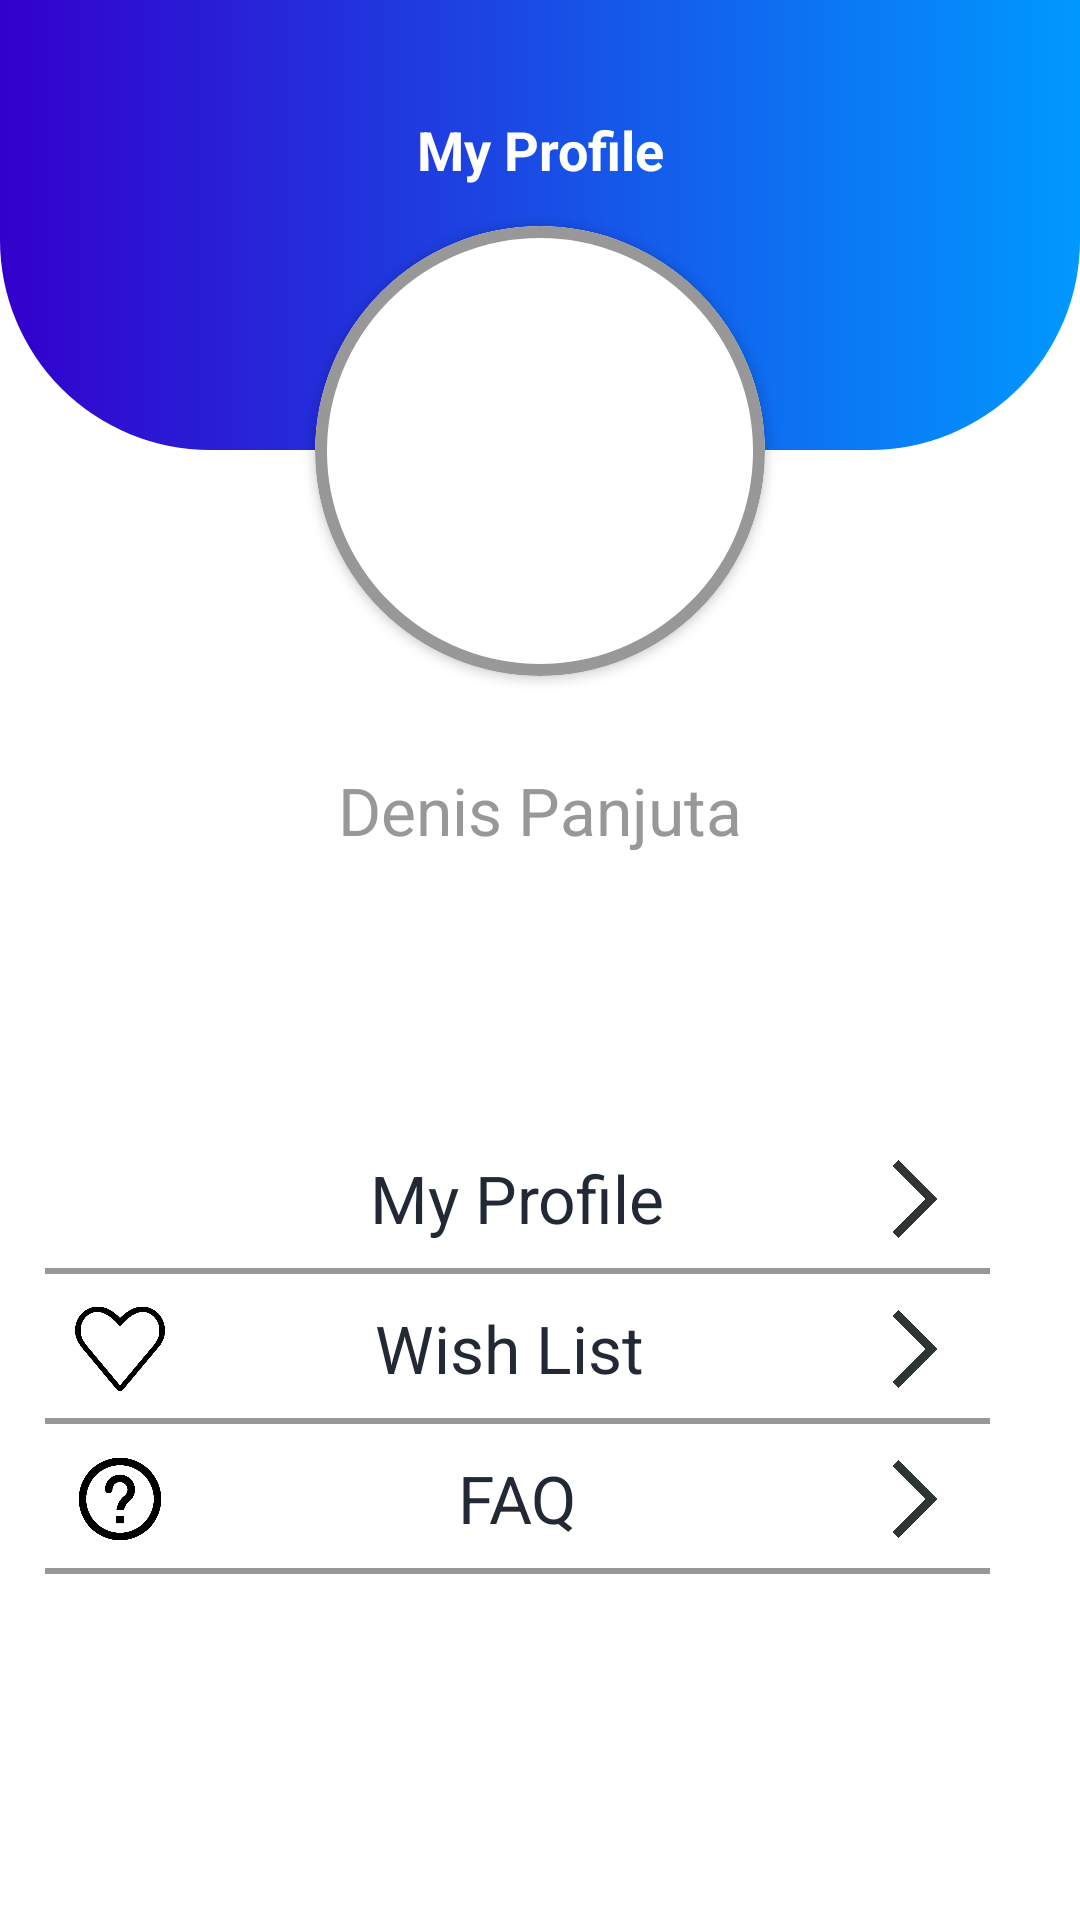

Point at icon controls on the screen. Image size 1080 x 1920, points as point (x, y).
arrow: point (915, 1199), point (915, 1349), point (915, 1499)
faq: point (120, 1499)
heart: point (120, 1349)
